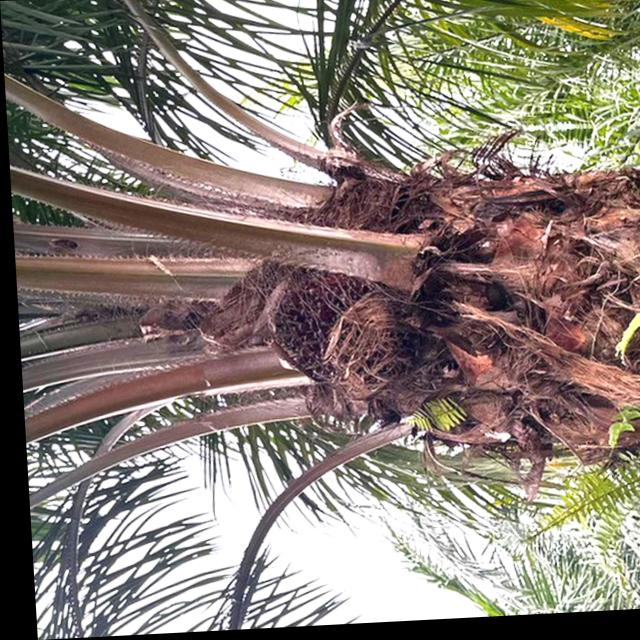ripe: (249, 262, 393, 396)
